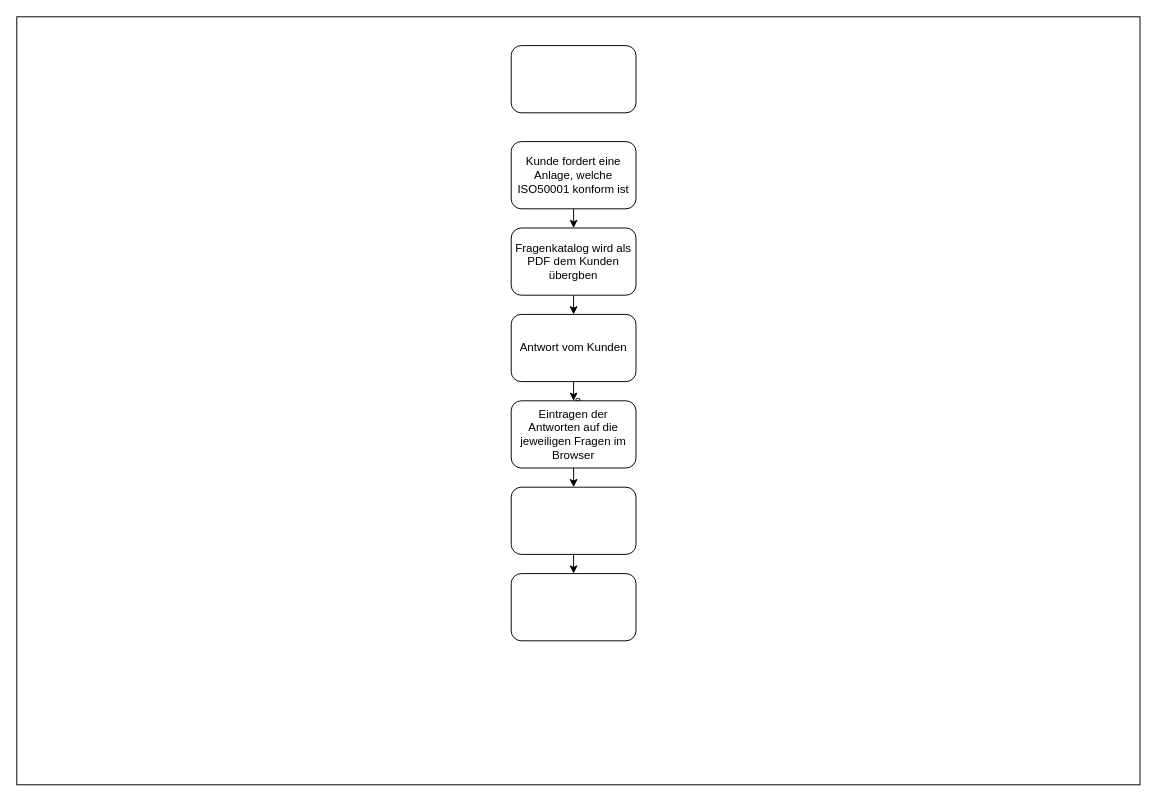
Image size: 1157x802. Some labels were removed from this diagram. Here are the shapes that lost their labels. From the top down, the centre of each, then its label:
At [573,79]: "Ablauf für Anlagen nach ISO 50001".
At [573,520]: "gefilterte Lösungen herunterladen".
At [573,607]: "Messgerät auswählen, welches passend gefiltert worden sind".
